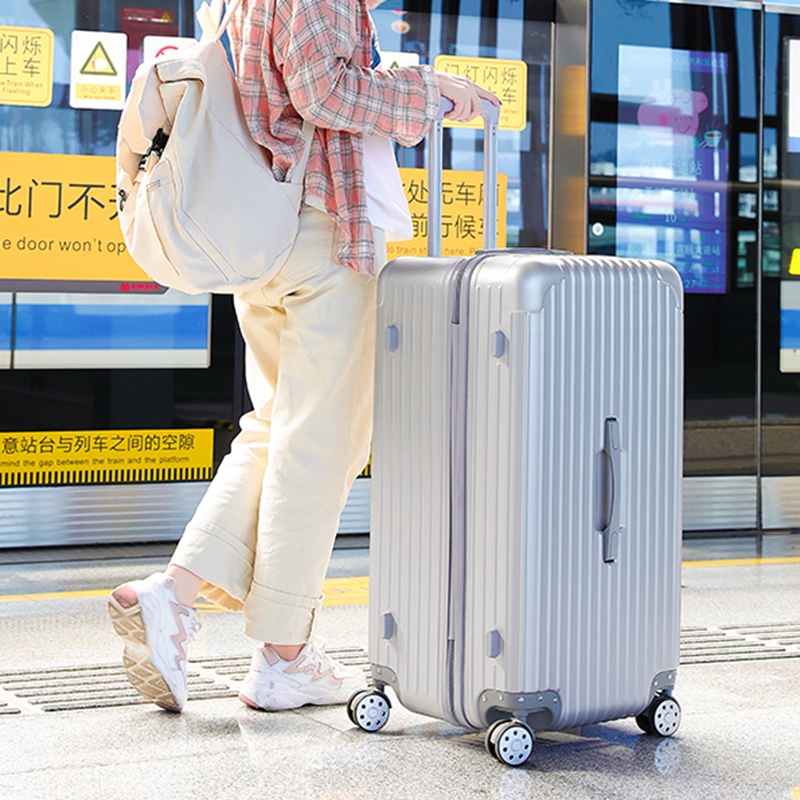box: (370, 252, 683, 728)
wheel: (485, 719, 536, 767), (346, 687, 391, 733), (634, 695, 682, 738)
